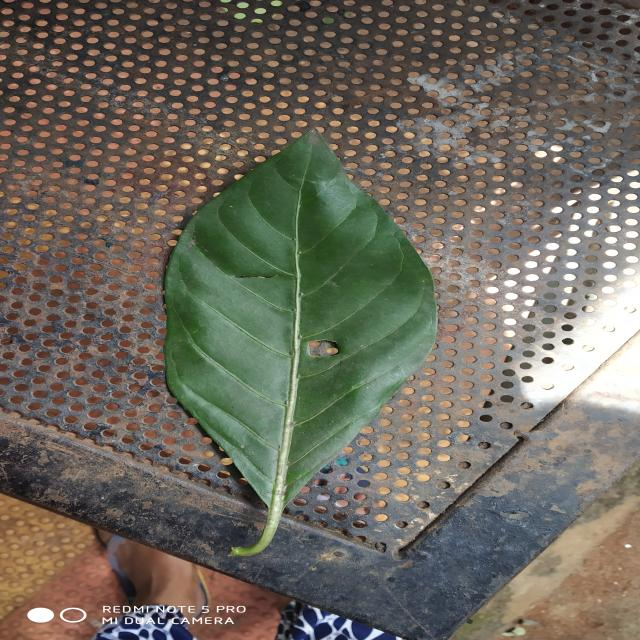anthracnosenooni: (164, 131, 438, 556)
